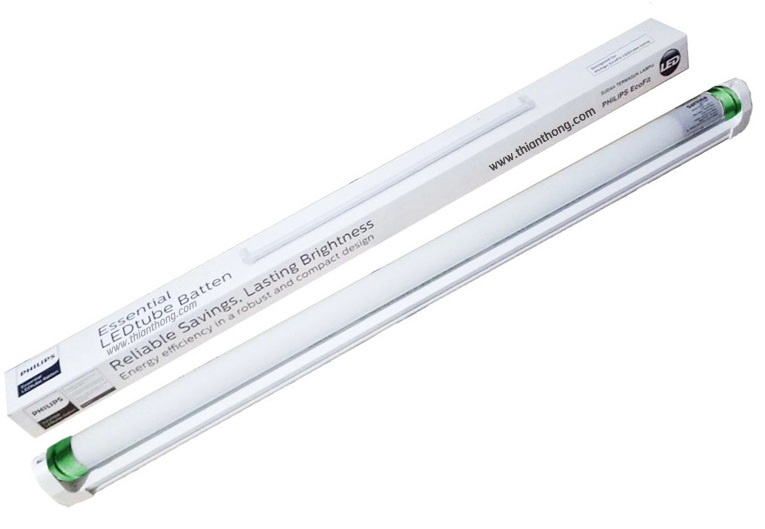Light_bulb: (38, 76, 739, 490)
